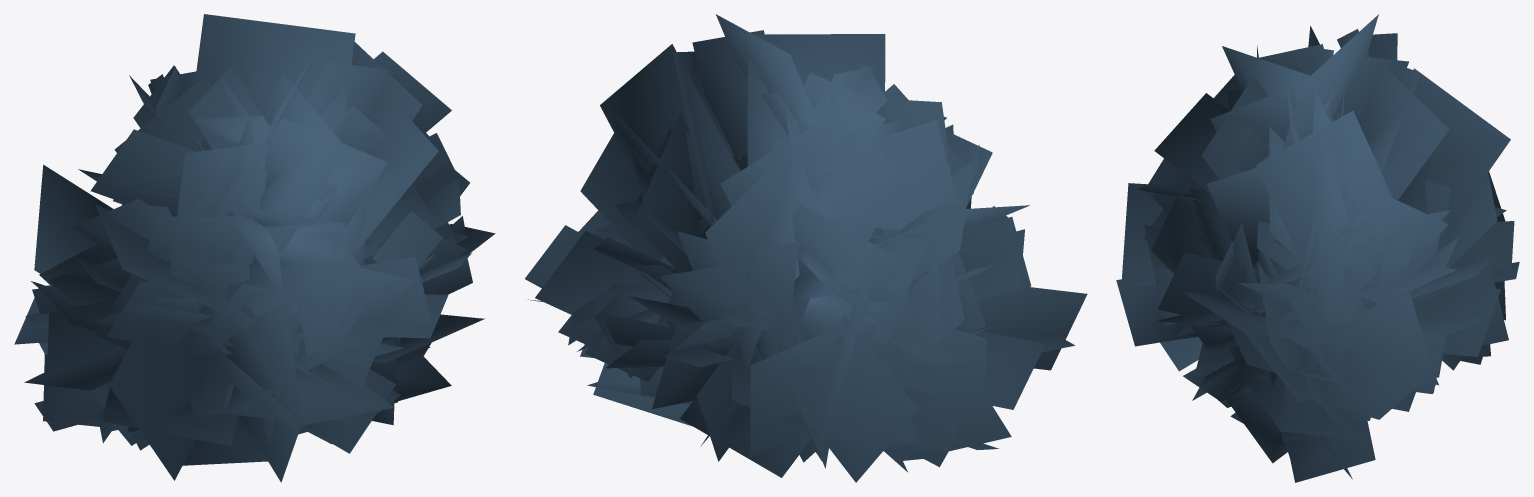
File: cmc_americanmaple_LOD1.fbx
3 renders of one model, left to right at view 1: azimuth 30°, elevation 25°; view 2: azimuth 150°, elevation 25°; view 3: azimuth 270°, elevation 25°, orthographic. The views are drawn at different scales.
Parts seen in each view (by area): view 1: american_maple_leaves; view 2: american_maple_leaves; view 3: american_maple_leaves.
Boxes of the visible parts, x1,y1,x2,y2 form: american_maple_leaves: [14, 14, 495, 482]; american_maple_leaves: [525, 14, 1087, 482]; american_maple_leaves: [1116, 14, 1519, 482].
Size of what is drawn, in the model's own units: 17.29 by 14.88 by 13.9.
